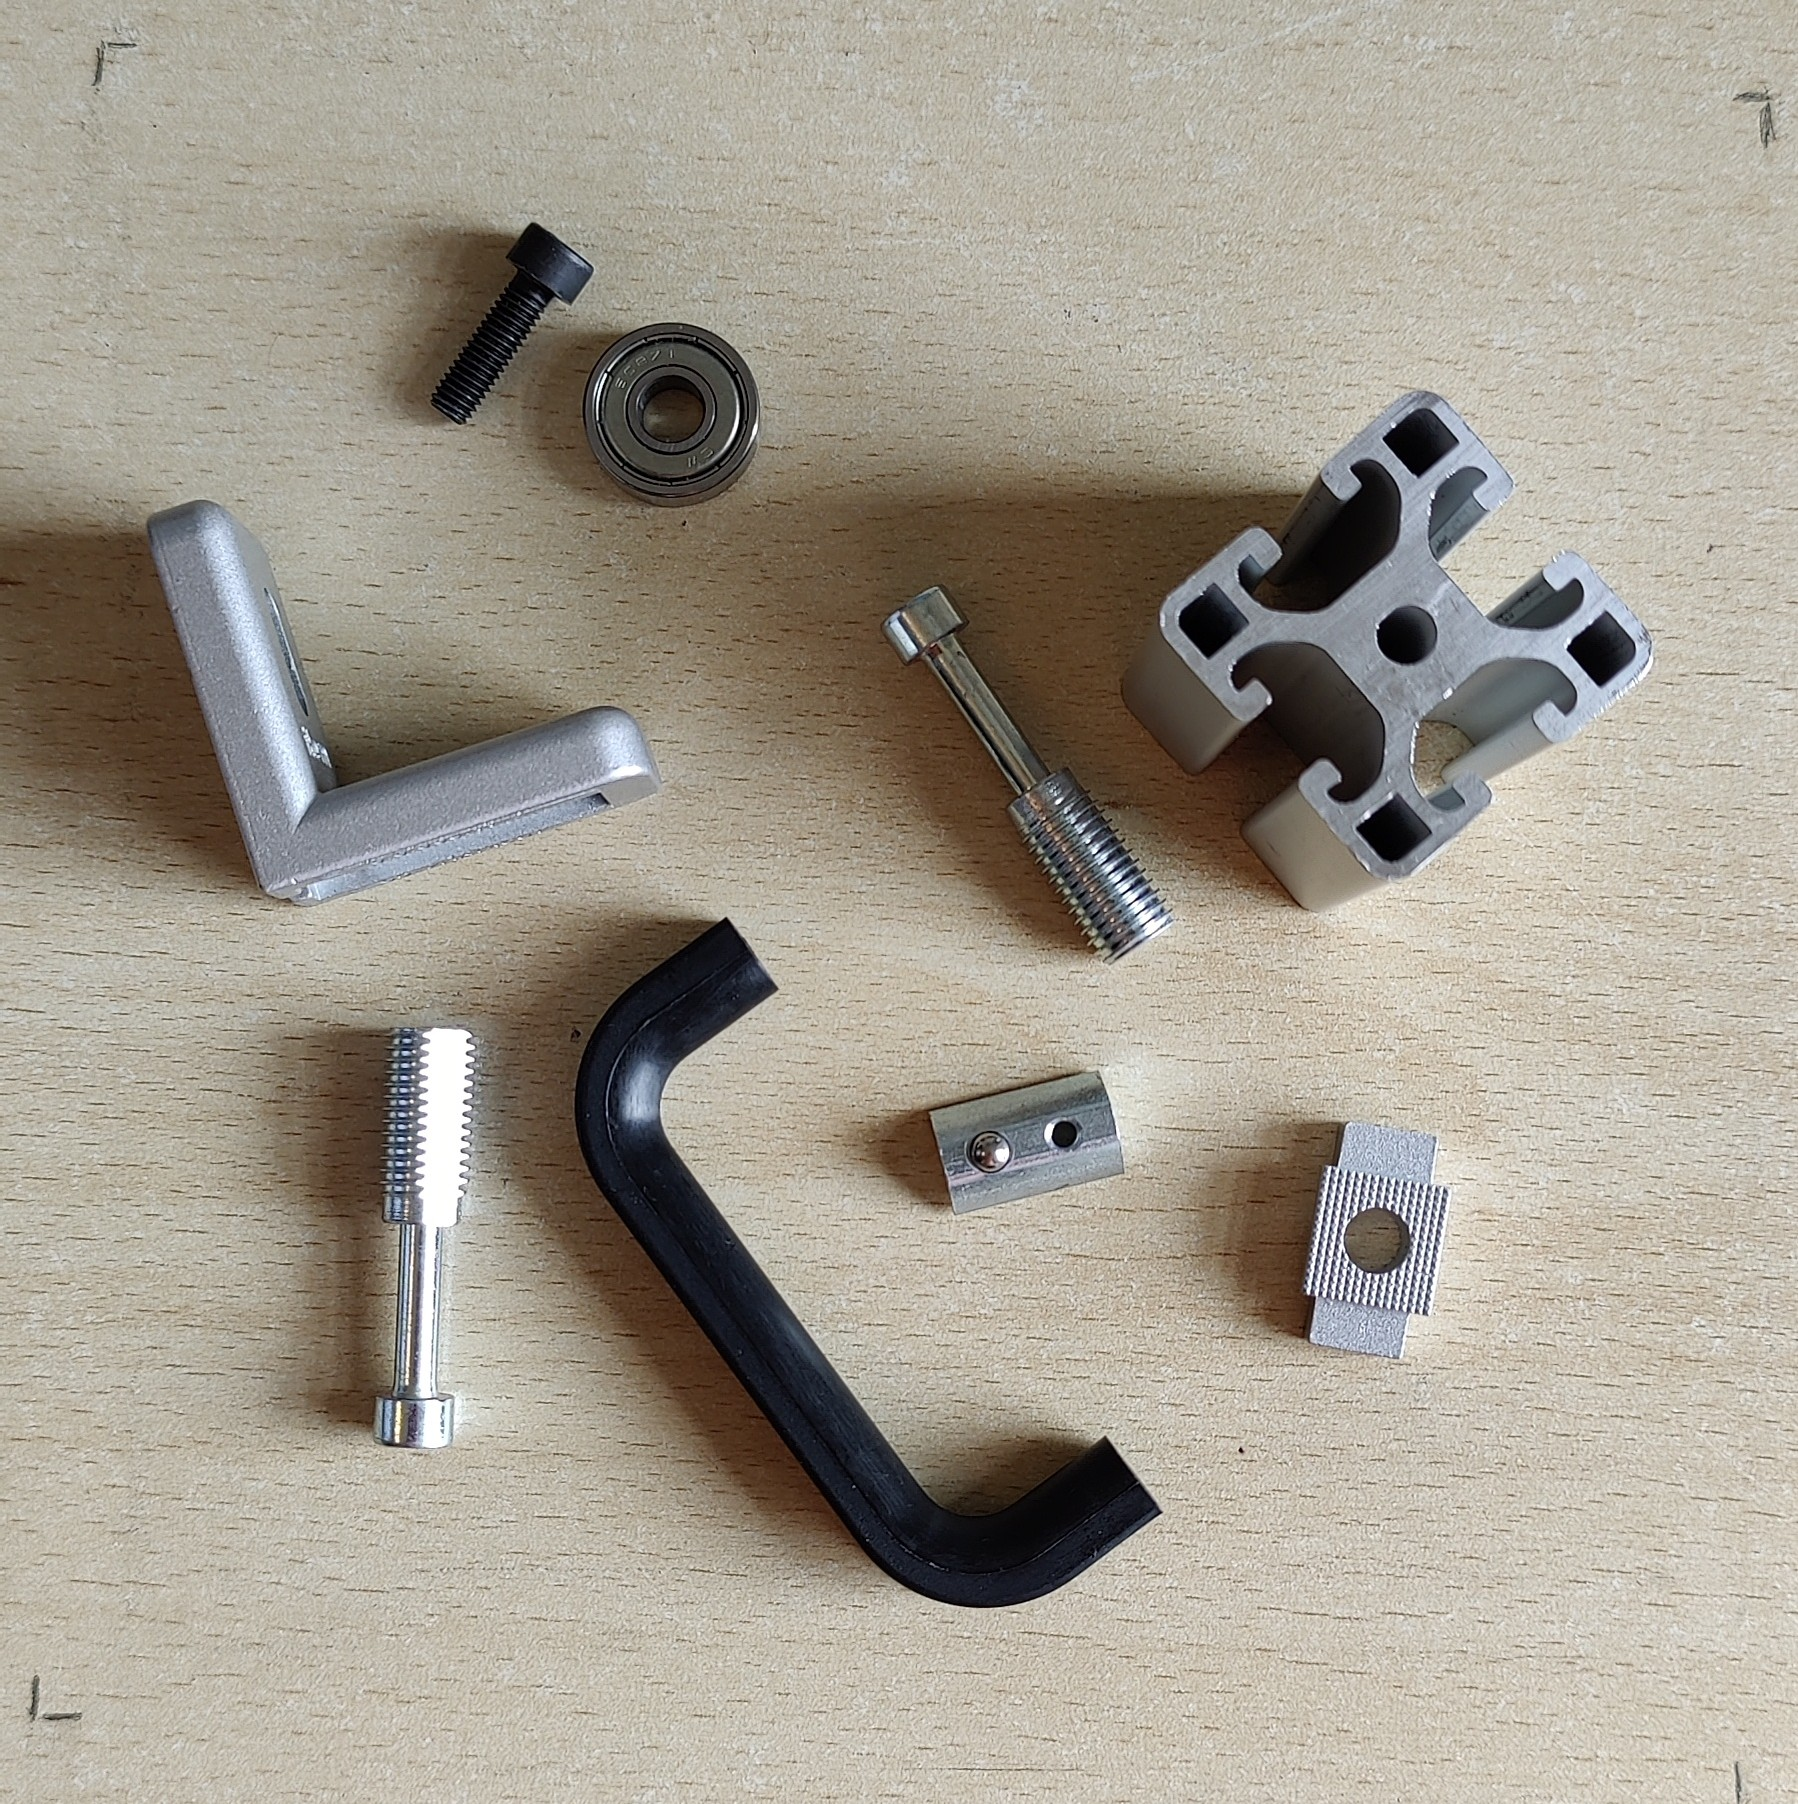Aluminium Extension: (1118, 388, 1656, 915)
Ball Bearing: (585, 318, 762, 510)
Multiwinkel: (145, 495, 660, 910)
Pull Handle: (570, 910, 1166, 1610)
Shoulder Socket Head Cap Screw: (878, 581, 1177, 966), (370, 1022, 487, 1452)
Socket Head Cap Screw: (428, 217, 594, 425)
T Nut Square: (1293, 1114, 1452, 1361)
T Spring Nut: (924, 1067, 1130, 1216)
